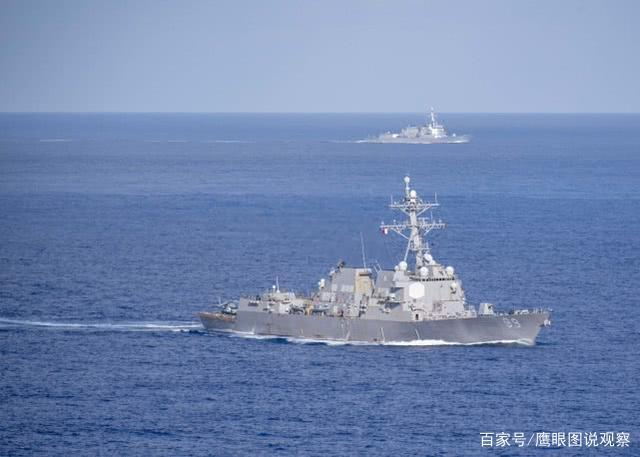warship: (198, 187, 549, 345), (370, 111, 472, 143)
